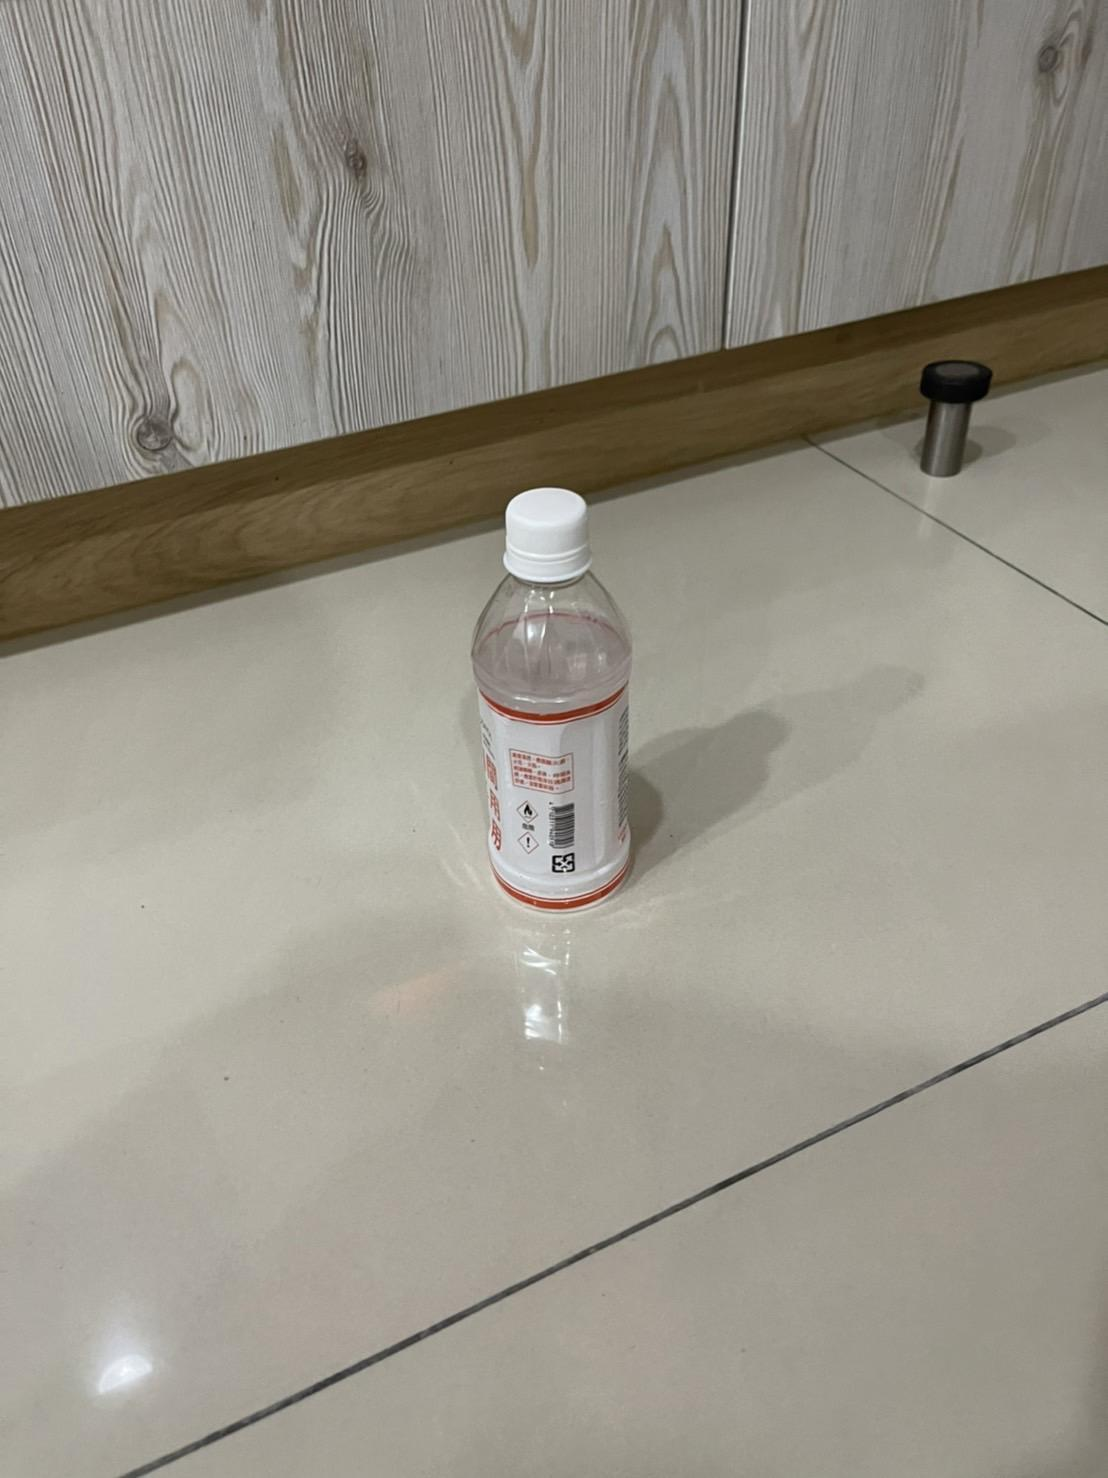bottle: (469, 479, 635, 914)
